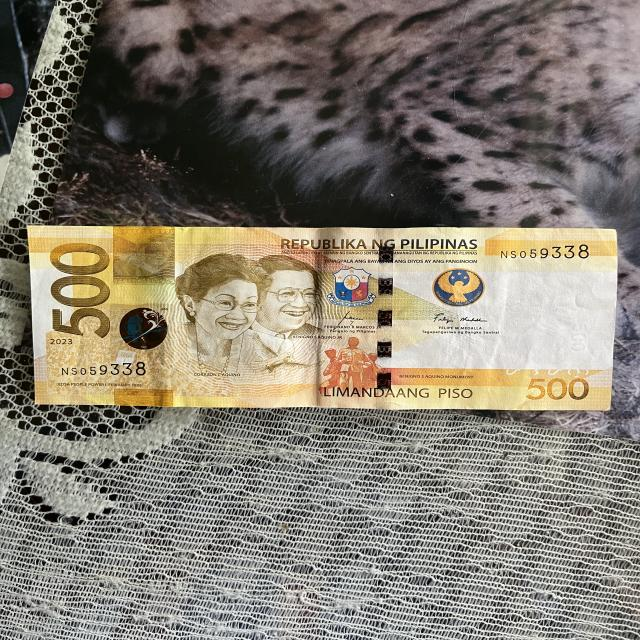concealed_value: (112, 226, 176, 286)
optically_variable_device: (118, 306, 170, 350)
security_thread: (376, 228, 394, 409)
see_through_mark: (503, 361, 592, 378)
serial_number: (494, 233, 592, 270), (56, 357, 156, 382)
value: (48, 242, 112, 339)
value_watermark: (568, 322, 590, 354)
